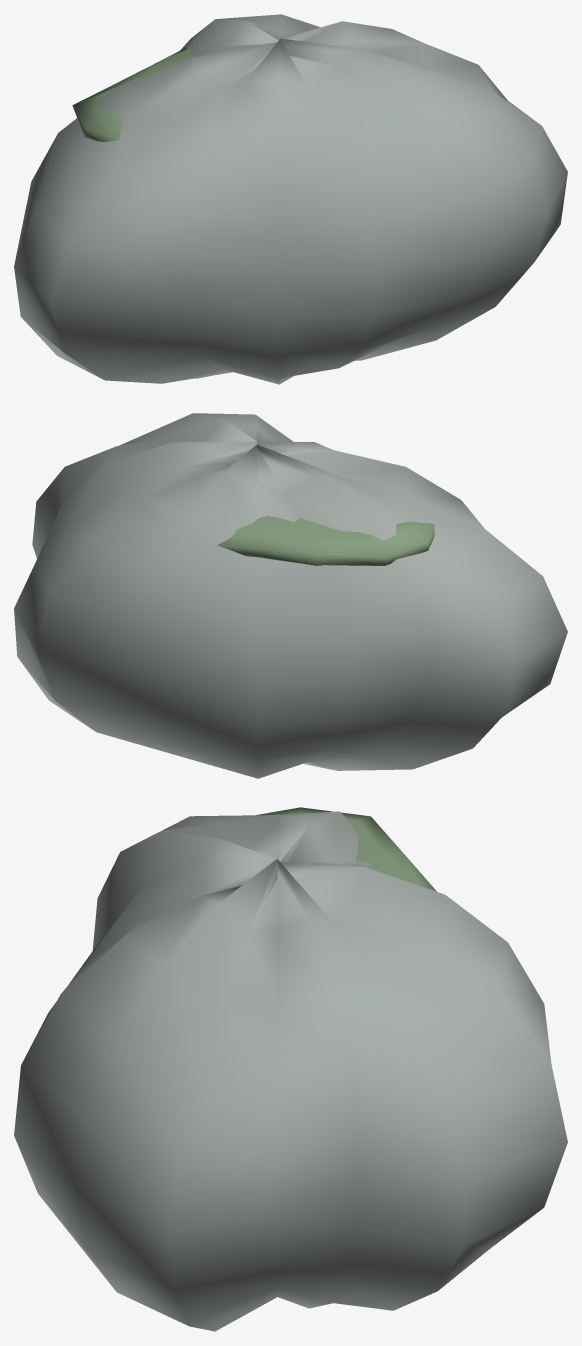
The model's file is SM_Rock_01_UV_0126.fbx.
The picture shows the model from 3 angles, top to bottom: view 1: azimuth 30°, elevation 25°; view 2: azimuth 150°, elevation 25°; view 3: azimuth 270°, elevation 25°; orthographic projection. The views are drawn at different scales.
Parts seen in each view (by area): view 1: SM_Rock_01_UV_0126; view 2: SM_Rock_01_UV_0126; view 3: SM_Rock_01_UV_0126.
Boxes of the visible parts, x1,y1,x2,y2 form: SM_Rock_01_UV_0126: (14,14,567,384); SM_Rock_01_UV_0126: (14,413,567,778); SM_Rock_01_UV_0126: (14,807,567,1331).
Bounding box in the file's own units: 639 × 454 × 382.
